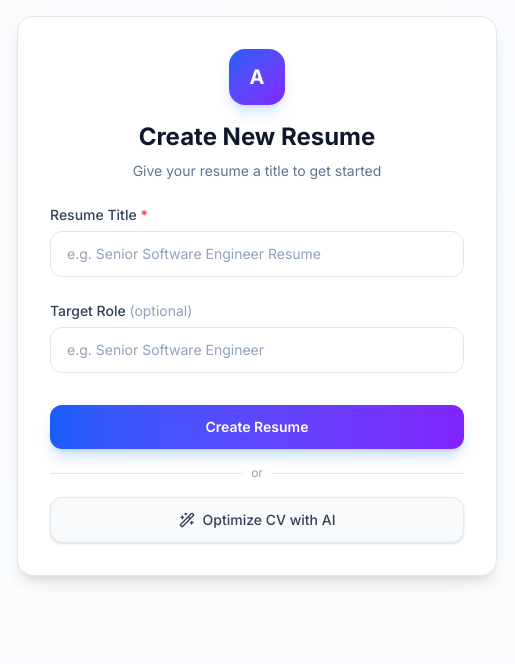
Scenario: Create resume form — version failure › displays form-level error for version creation failure
Type "My Resume" into the field labelled "Resume Title *". click: x=257, y=254
box: [50,231,464,277]
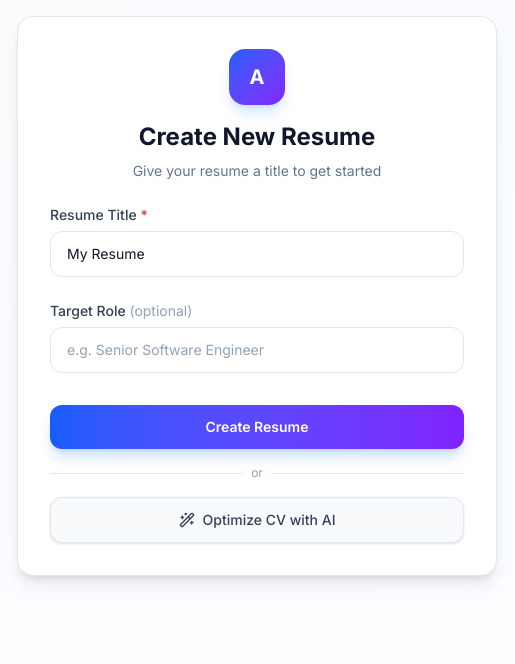
Click the button "Create Resume". click: x=257, y=427
box: [50,405,464,449]
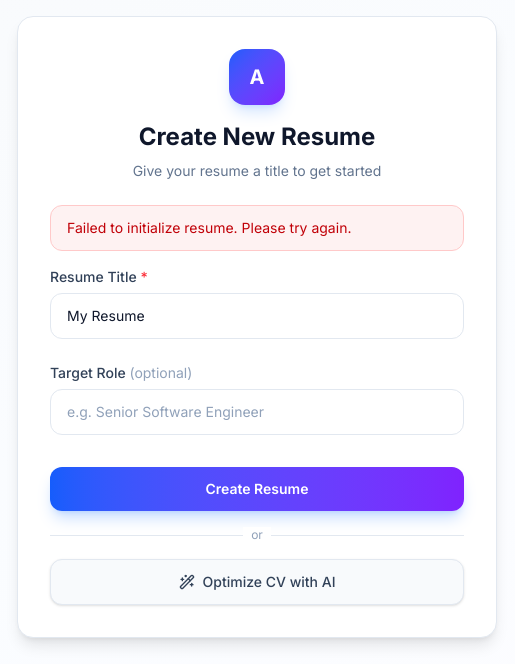
expect the text "Failed to initialize resume. Please try again." is shown: met, box [50,205,464,251]
